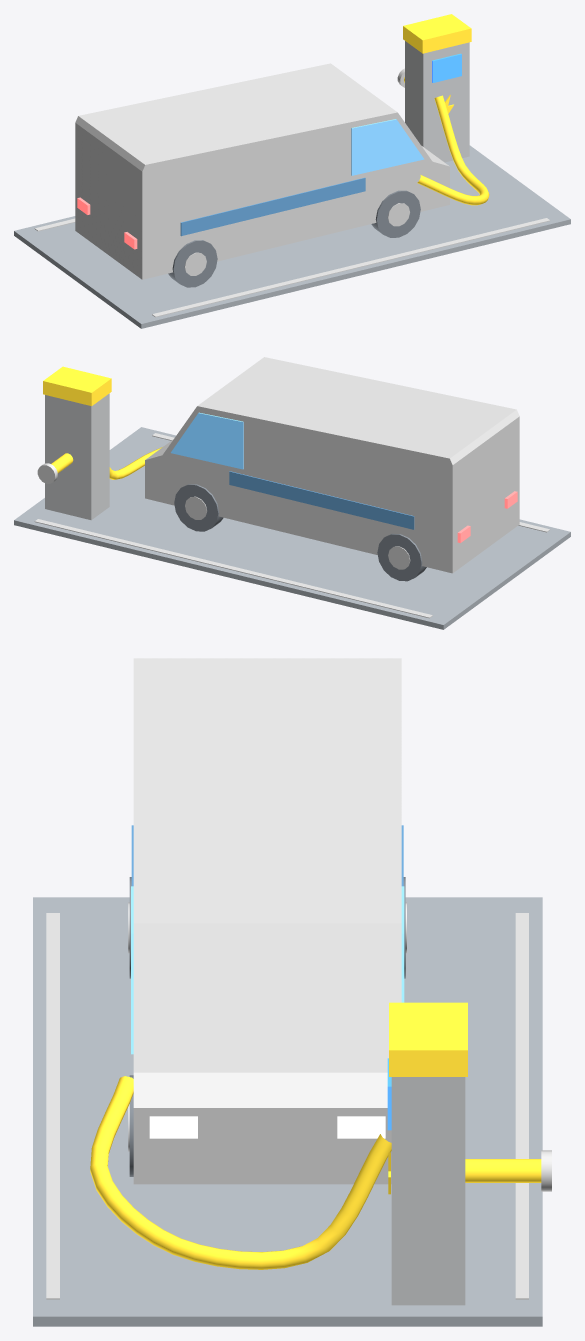
The model's file is EV-van.glb.
3 views of the same model, one above another, from view 1: azimuth 30°, elevation 25°; view 2: azimuth 150°, elevation 25°; view 3: azimuth 270°, elevation 25° (orthographic). The views are drawn at different scales.
Visible parts, largest first — view 1: body, pad, pillar, windows, stripe, wheel (×2), band, bay_line, cable, hubcap (×2), screen; view 2: body, pad, pillar, windows, stripe, wheel (×2), band, bay_line, hubcap (×2), cable; view 3: body, pad, pillar, bay_line (×2), cable, band, headlight (×2), terminal_stub, windows.
Part boxes in pixels (bbox=[...]): body: bbox=[75, 63, 449, 279]; pad: bbox=[14, 145, 570, 328]; pillar: bbox=[405, 41, 469, 162]; windows: bbox=[351, 119, 424, 175]; stripe: bbox=[180, 177, 365, 236]; wheel (×2): bbox=[168, 190, 420, 287]; band: bbox=[403, 14, 471, 53]; bay_line: bbox=[152, 218, 550, 317]; cable: bbox=[417, 95, 489, 205]; hubcap (×2): bbox=[184, 203, 409, 275]; screen: bbox=[432, 53, 461, 82]; body: bbox=[145, 357, 519, 573]; pad: bbox=[14, 427, 570, 629]; pillar: bbox=[45, 393, 109, 520]; windows: bbox=[171, 412, 243, 469]; stripe: bbox=[229, 471, 414, 529]; wheel (×2): bbox=[174, 484, 426, 581]; band: bbox=[43, 366, 111, 406]; bay_line: bbox=[34, 519, 432, 618]; hubcap (×2): bbox=[185, 496, 410, 569]; cable: bbox=[109, 447, 162, 479]; body: bbox=[133, 658, 401, 1184]; pad: bbox=[33, 897, 542, 1326]; pillar: bbox=[391, 1077, 465, 1305]; bay_line (×2): bbox=[46, 913, 528, 1299]; cable: bbox=[90, 1076, 391, 1269]; band: bbox=[389, 1002, 467, 1076]; headlight (×2): bbox=[149, 1116, 385, 1138]; terminal_stub: bbox=[465, 1159, 541, 1182]; windows: bbox=[131, 886, 404, 1054].
Size of the model in its own units: 7.4 by 2.28 by 3.87.
